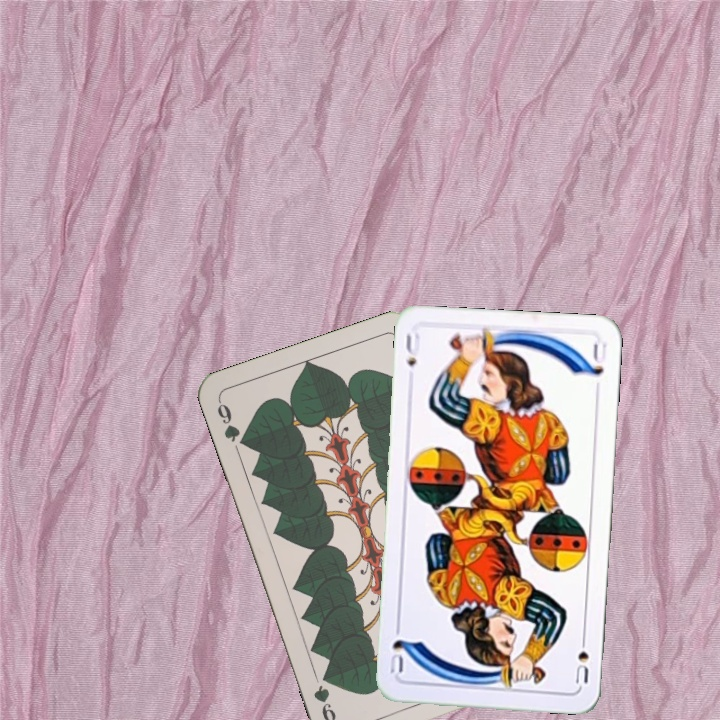G9: (213, 396, 250, 450)
SU: (570, 629, 592, 686), (401, 329, 423, 370)
